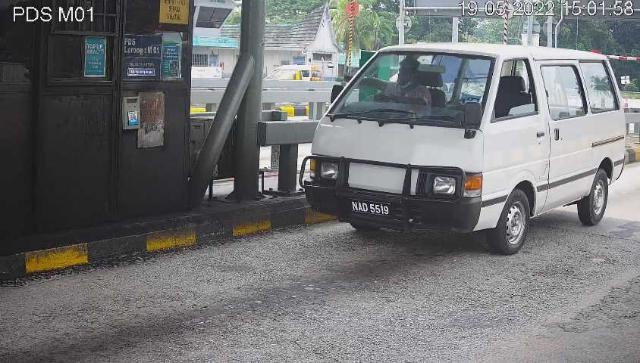License_Plate: (350, 201, 395, 221)
van: (301, 46, 628, 257)
